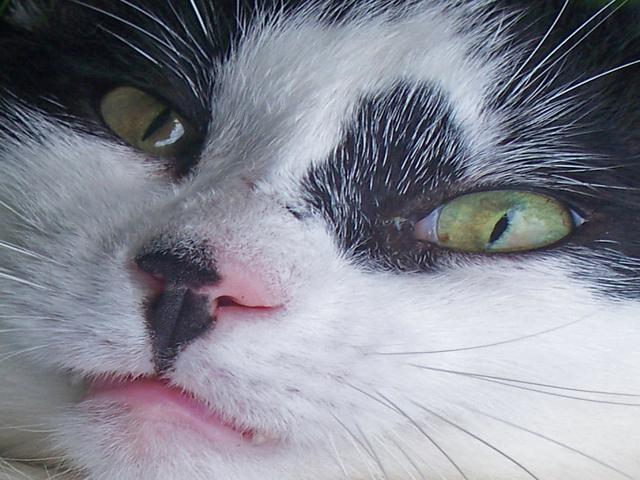cat: (1, 13, 617, 472)
